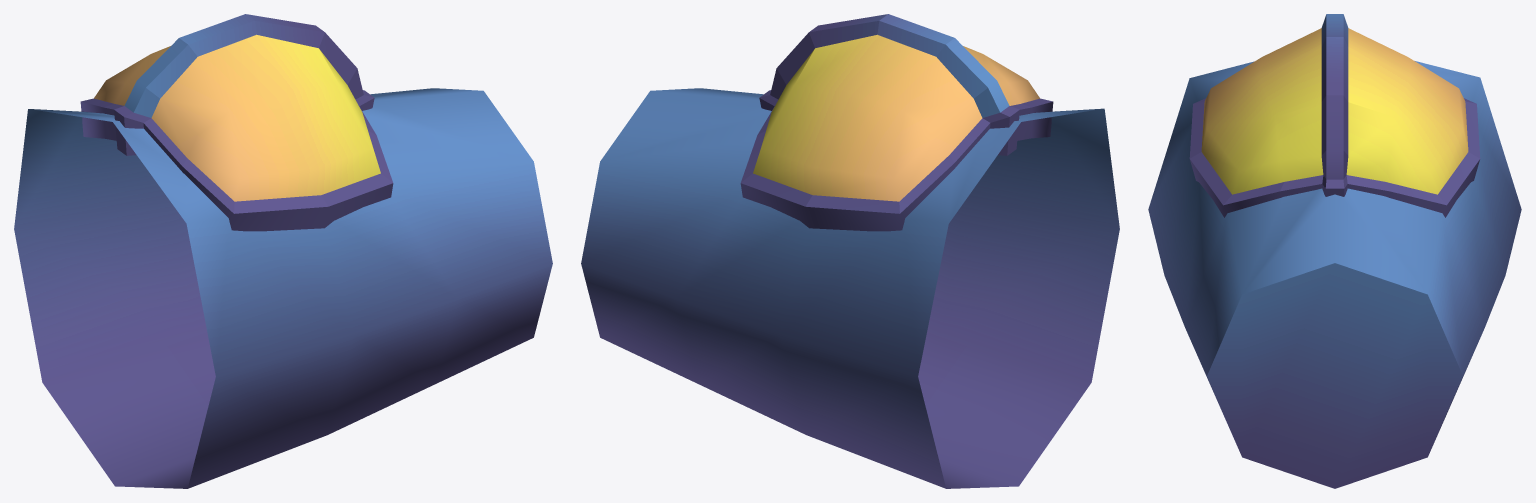
File: Space_Ship_Exploded_03.fbx
3 views of the same model, side by side, from view 1: azimuth 30°, elevation 25°; view 2: azimuth 150°, elevation 25°; view 3: azimuth 270°, elevation 25° (orthographic). The views are drawn at different scales.
Parts seen in each view (by area): view 1: polySurface42; view 2: polySurface42; view 3: polySurface42.
Part boxes in pixels (<box>): polySurface42: <box>14,14,552,488</box>; polySurface42: <box>581,14,1119,488</box>; polySurface42: <box>1148,14,1521,488</box>.
Bounding box in the file's own units: 301 × 333 × 279.
1 material, 1 textured.
